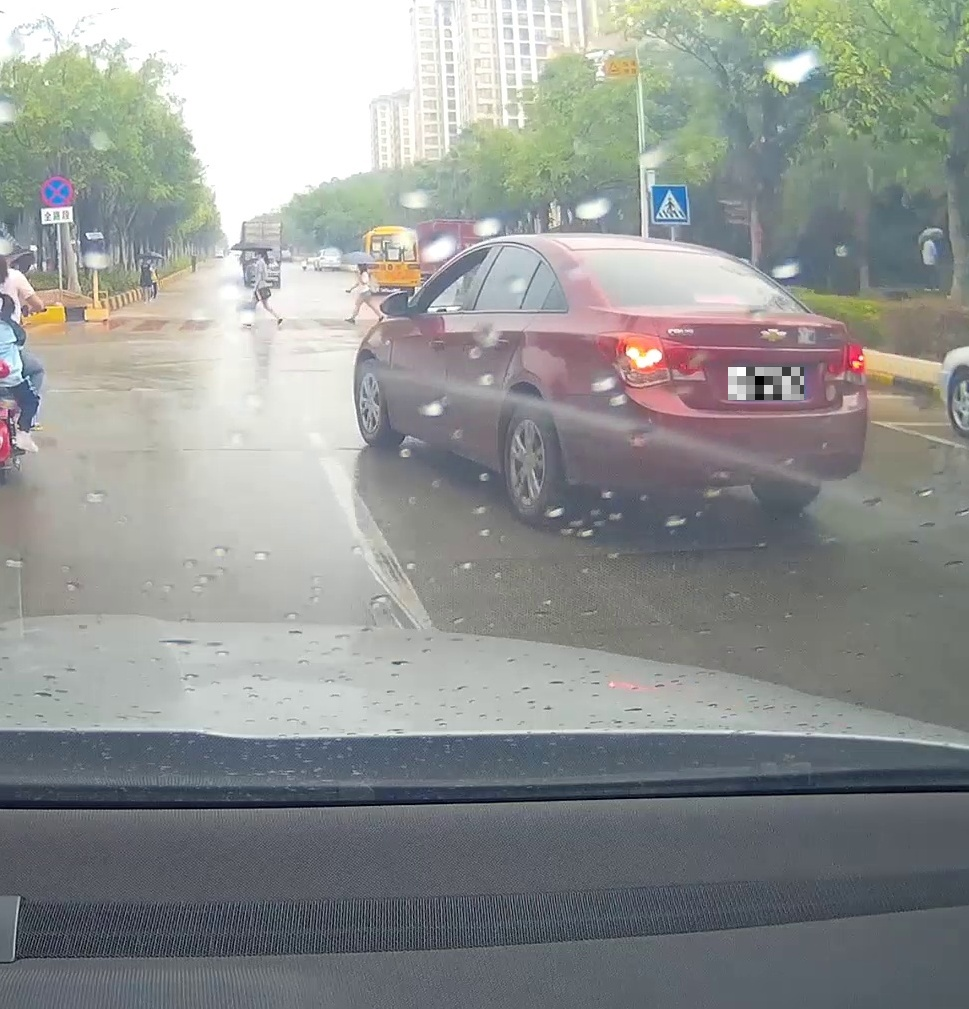L_light: (594, 330, 708, 389)
R_light: (822, 341, 867, 386)
T_light: (692, 291, 745, 306)
day-left: (556, 234, 870, 530)
plate_1: (728, 367, 804, 400)
